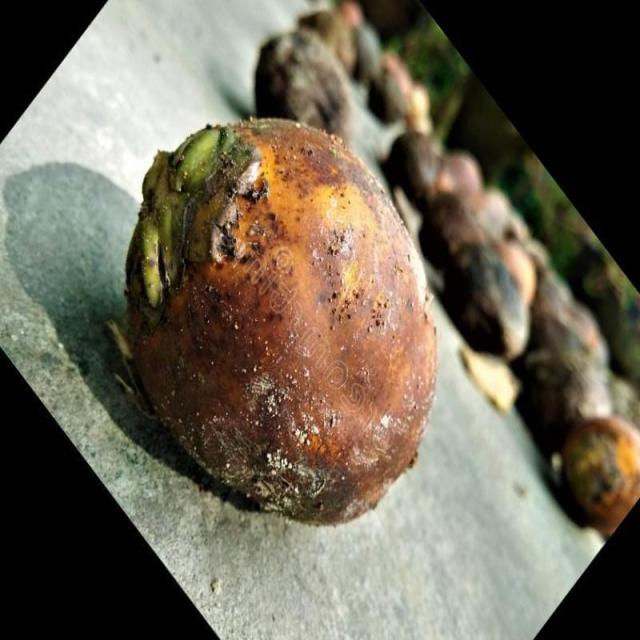damaged: (124, 119, 435, 524)
